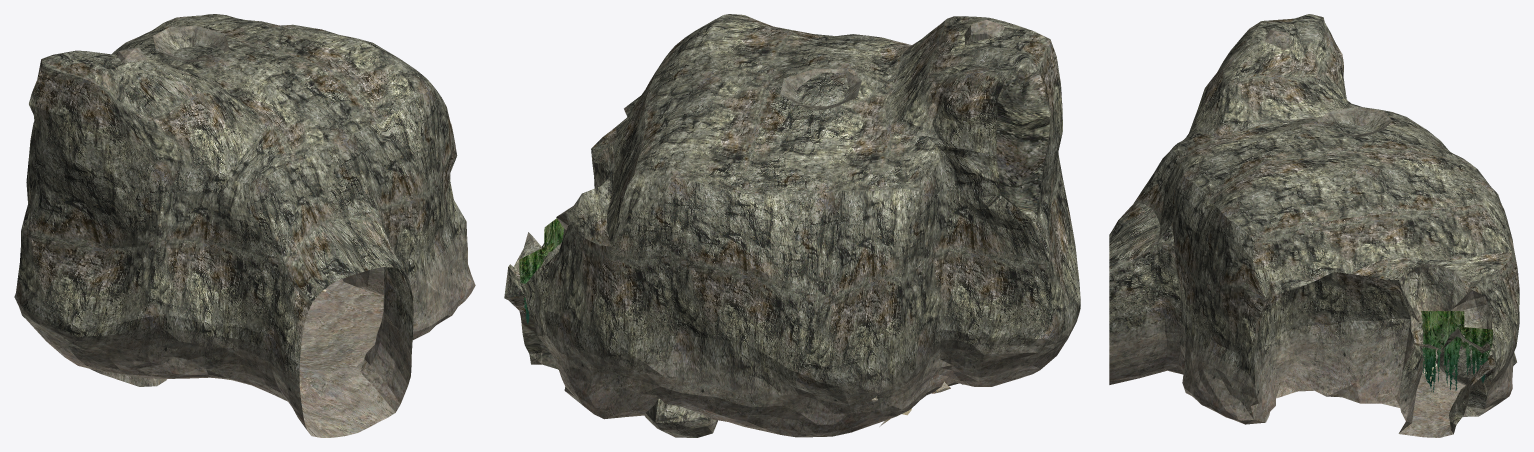
The model's file is poi_all_bunker_mad_bio_s01_r1_cave_entrance_mesh_r1.fbx.
3 renders of one model, left to right at view 1: azimuth 30°, elevation 25°; view 2: azimuth 150°, elevation 25°; view 3: azimuth 270°, elevation 25°, orthographic. The views are drawn at different scales.
Parts seen in each view (by area): view 1: mesh_node; view 2: mesh_node; view 3: mesh_node.
Part boxes in pixels (bbox=[...]): mesh_node: bbox=[14, 14, 475, 437]; mesh_node: bbox=[504, 14, 1080, 437]; mesh_node: bbox=[1109, 14, 1519, 437].
Bounding box in the file's own units: 37.83 × 29.94 × 37.83.
